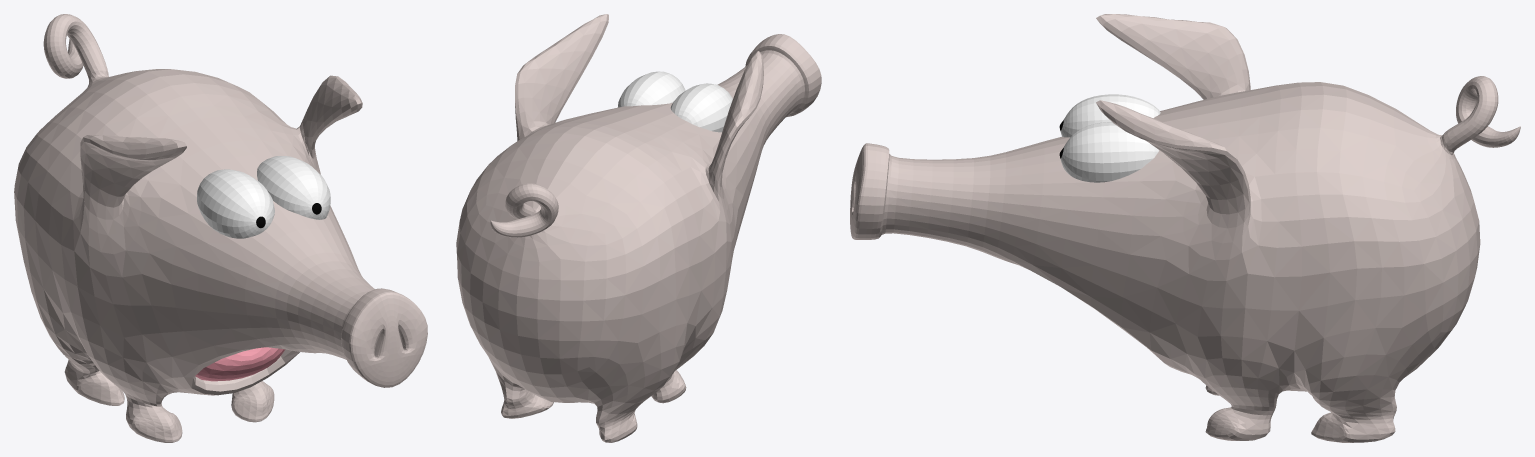
Rendered from pig_triangulated.fbx.
3 renders of one model, left to right at view 1: azimuth 30°, elevation 25°; view 2: azimuth 150°, elevation 25°; view 3: azimuth 270°, elevation 25°, orthographic. The views are drawn at different scales.
Visible parts, largest first — view 1: Default; view 2: Default; view 3: Default.
Boxes of the visible parts, x1,y1,x2,y2 form: Default: (14, 14, 427, 442); Default: (456, 14, 821, 442); Default: (850, 14, 1520, 442).
Bounding box in the file's own units: 68.3 × 91.81 × 157.
